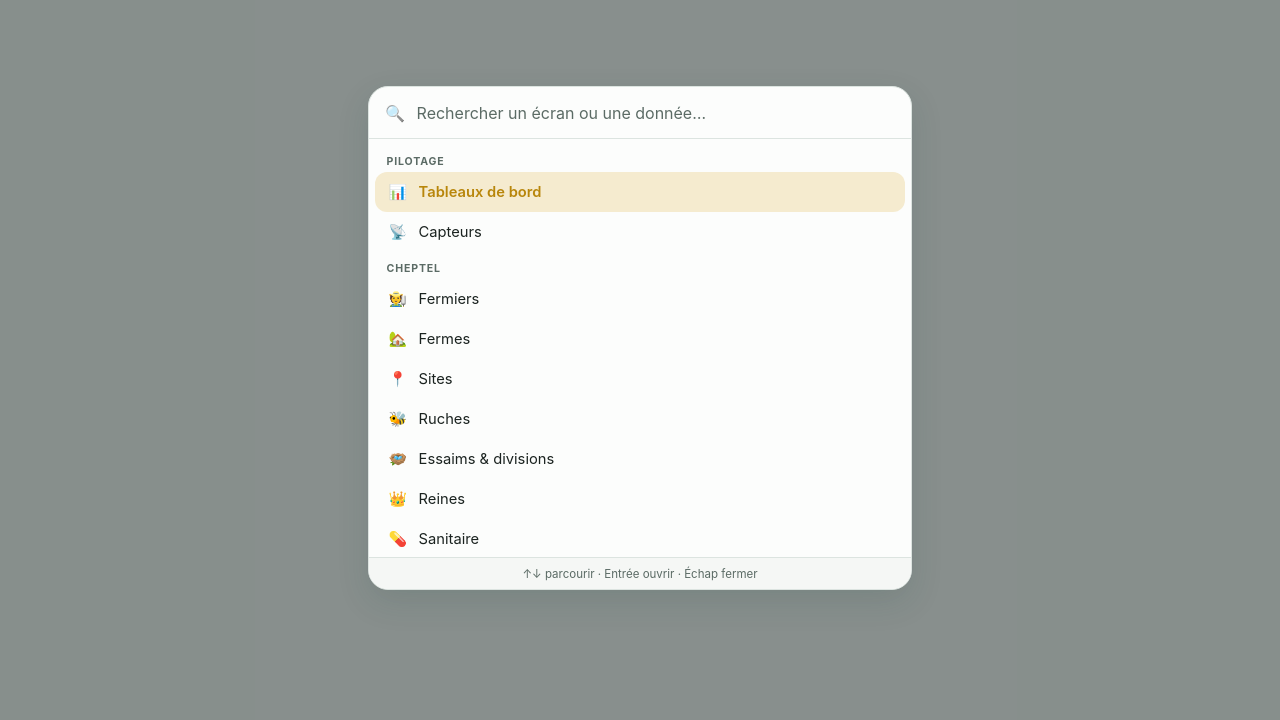
Test: palette de commandes › filtre à la frappe
Type "reco" into the dropdown at (655, 113), box [415,102,895,124]
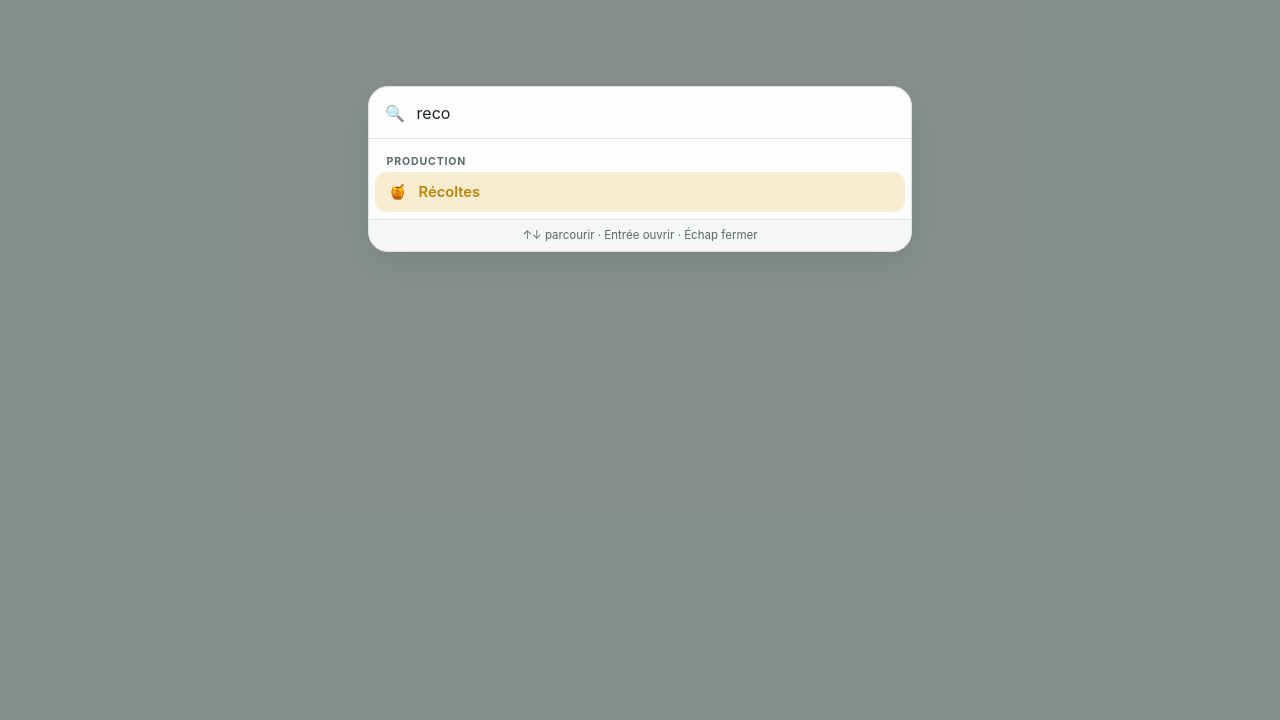
Expected: the number of options is 1, [375,172,905,212]
Expected: the option shows "Récoltes", [375,172,905,212]
